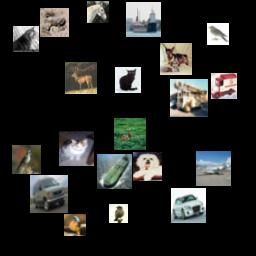airplane: (196, 151, 231, 186)
automobile: (30, 175, 68, 213), (171, 188, 206, 223)
bird: (12, 145, 41, 174), (64, 214, 86, 236), (207, 23, 229, 45), (109, 204, 128, 223)
cat: (59, 131, 94, 166), (115, 67, 141, 93), (13, 26, 39, 52)
deer: (65, 62, 97, 94), (114, 118, 146, 150)
dog: (160, 43, 192, 75), (133, 152, 162, 181)
frog: (40, 8, 69, 37)
ship: (97, 154, 132, 189), (126, 2, 161, 37)
truck: (170, 79, 208, 117), (211, 73, 237, 99)
